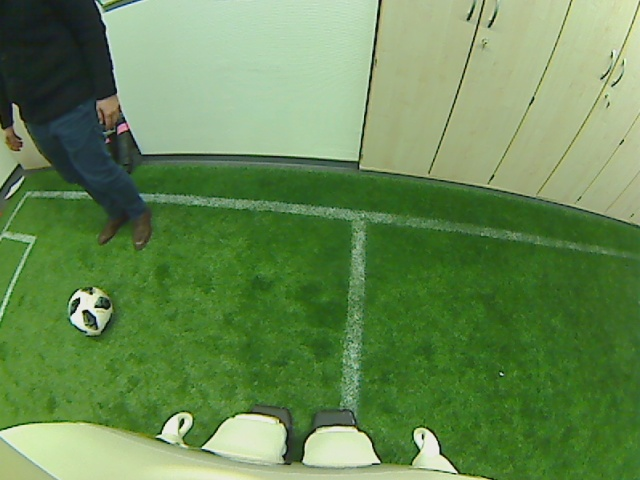ball: (65, 284, 114, 337)
